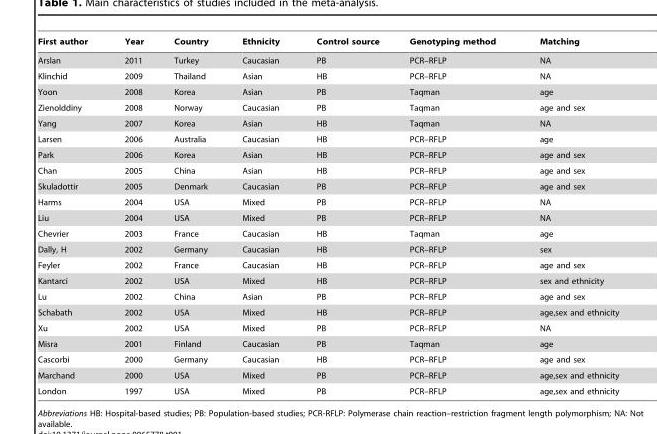table: (36, 36, 618, 395)
table column: (393, 36, 517, 395), (517, 36, 618, 395), (297, 36, 393, 395), (224, 36, 297, 395), (36, 36, 105, 395), (158, 36, 224, 395), (105, 36, 158, 395)
table column header: (36, 36, 618, 50)
table row: (36, 50, 618, 68), (36, 83, 618, 99), (36, 99, 618, 115), (36, 115, 618, 131), (36, 146, 618, 162), (36, 162, 618, 178), (36, 178, 618, 194), (36, 209, 618, 225), (36, 225, 618, 241), (36, 241, 618, 257), (36, 272, 618, 288), (36, 288, 618, 304), (36, 304, 618, 320), (36, 335, 618, 351), (36, 351, 618, 367), (36, 367, 618, 383), (36, 68, 618, 83), (36, 131, 618, 146), (36, 194, 618, 209), (36, 257, 618, 272), (36, 320, 618, 335), (36, 36, 618, 50), (36, 383, 618, 395)
